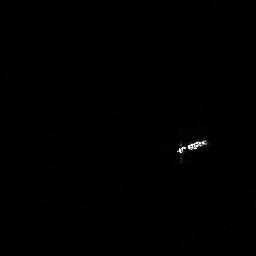ship: (174, 134, 211, 164)
